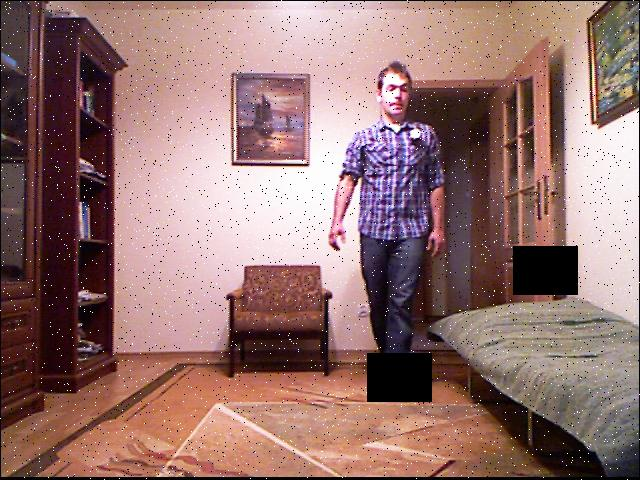walking: (325, 53, 459, 413)
